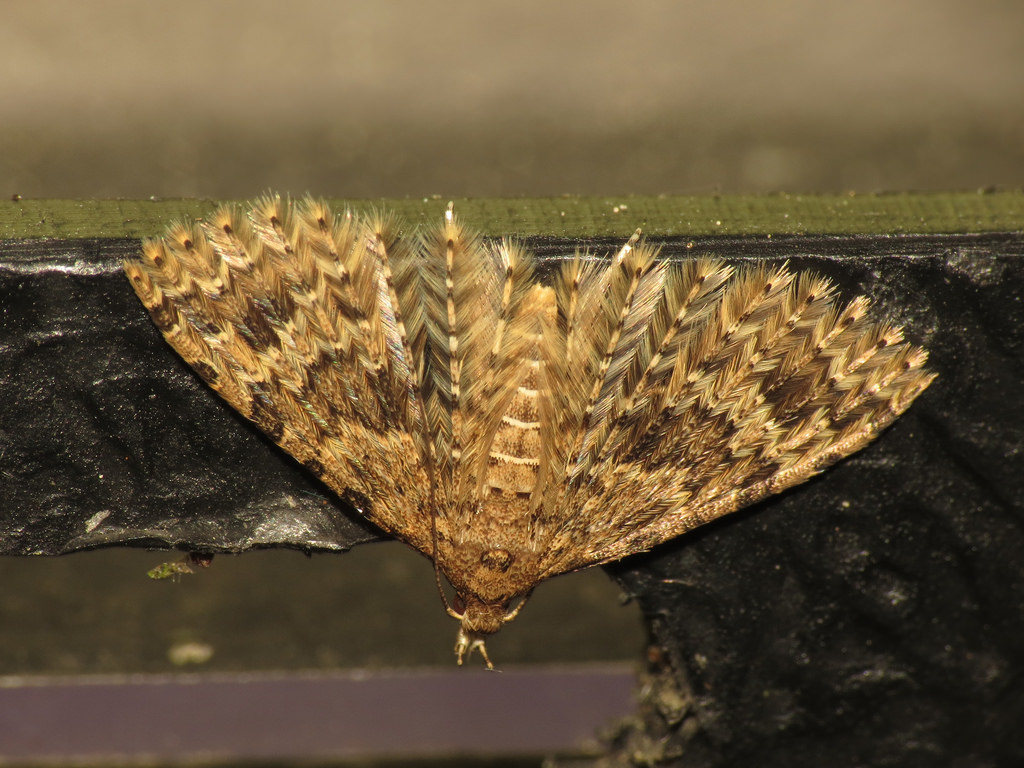Alucitidae: (121, 190, 953, 676)
moth: (119, 188, 951, 674)
